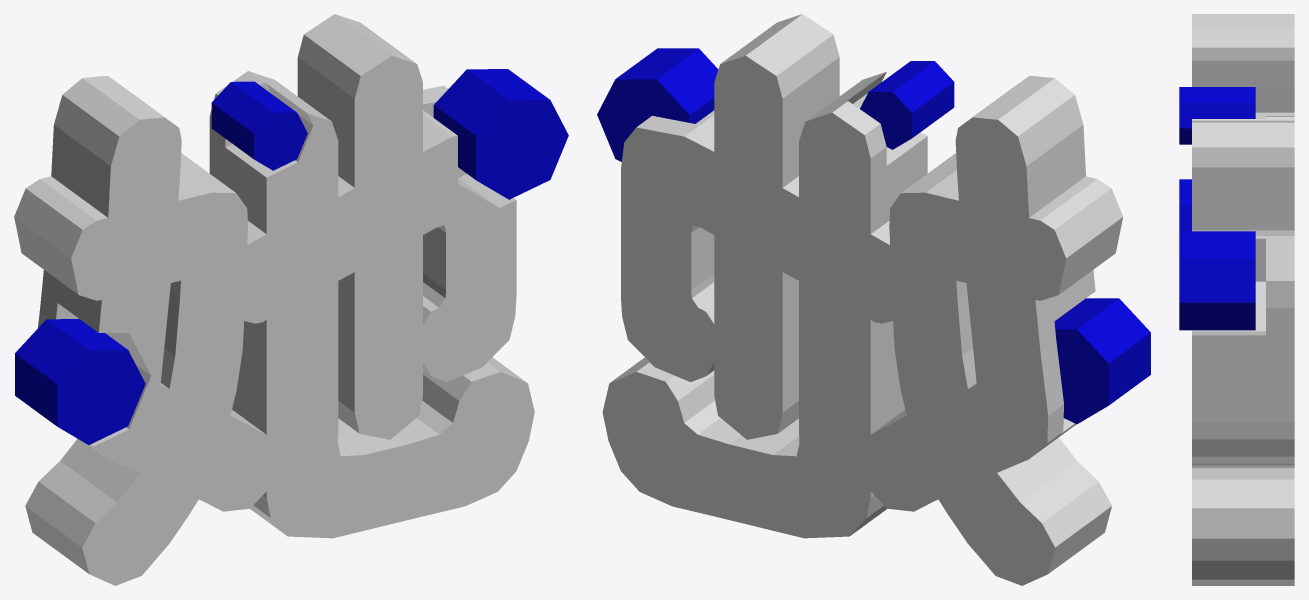
File: Ch_Lite_China_她_01.fbx
The picture shows the model from 3 angles, left to right: view 1: azimuth 30°, elevation 25°; view 2: azimuth 150°, elevation 25°; view 3: azimuth 270°, elevation 25°; orthographic projection. The views are drawn at different scales.
Visible parts, largest first — view 1: sphere1; view 2: sphere1; view 3: sphere1.
Boxes of the visible parts, x1,y1,x2,y2 form: sphere1: (14,14,568,585); sphere1: (597,14,1150,585); sphere1: (1179,14,1294,585).
Bounding box in the file's own units: 1.04 × 0.9072 × 0.2242.
